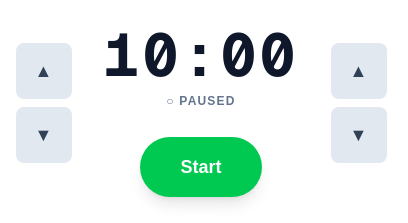
Test case: ScoreboardTimerContainer - User Story Integration Tests › US2: Adjust Seconds Up/Down (P1) › should decrement seconds by 1 when timer is paused
This screenshot has width=408, height=223.
Expected: the message reads "10:00", [104, 16, 298, 94]
Click the button named "Decrement" at (358, 135), box [330, 107, 386, 163]
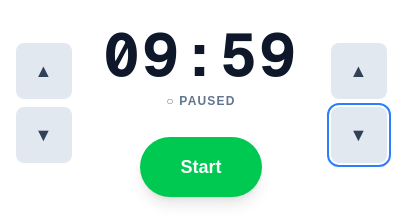
Expected: the message reads "09:59", [104, 16, 298, 94]
